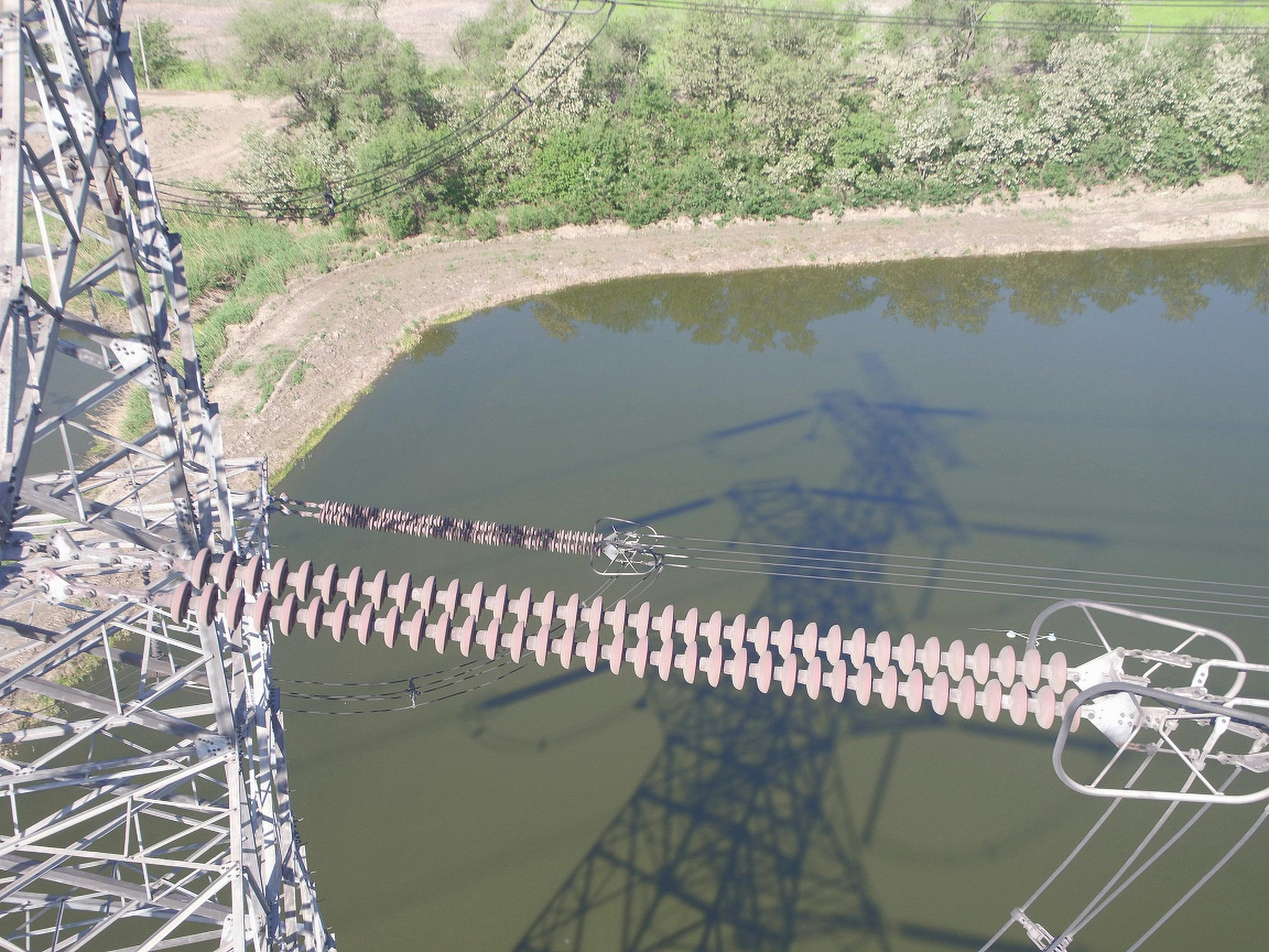insulator: (164, 544, 1088, 742), (316, 497, 605, 558)
